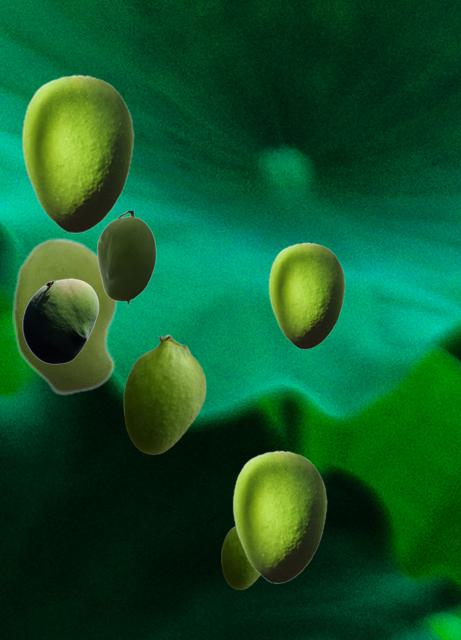green_mango: (21, 74, 133, 232), (12, 237, 117, 395), (232, 450, 326, 582), (123, 334, 205, 453), (268, 242, 344, 348), (22, 278, 98, 363), (96, 211, 155, 305), (221, 526, 260, 588)
